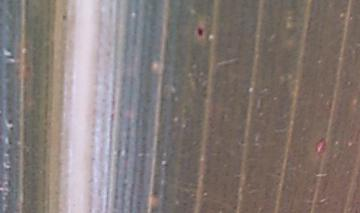tarspot: (197, 27, 204, 38), (6, 118, 15, 125), (61, 14, 68, 22)
